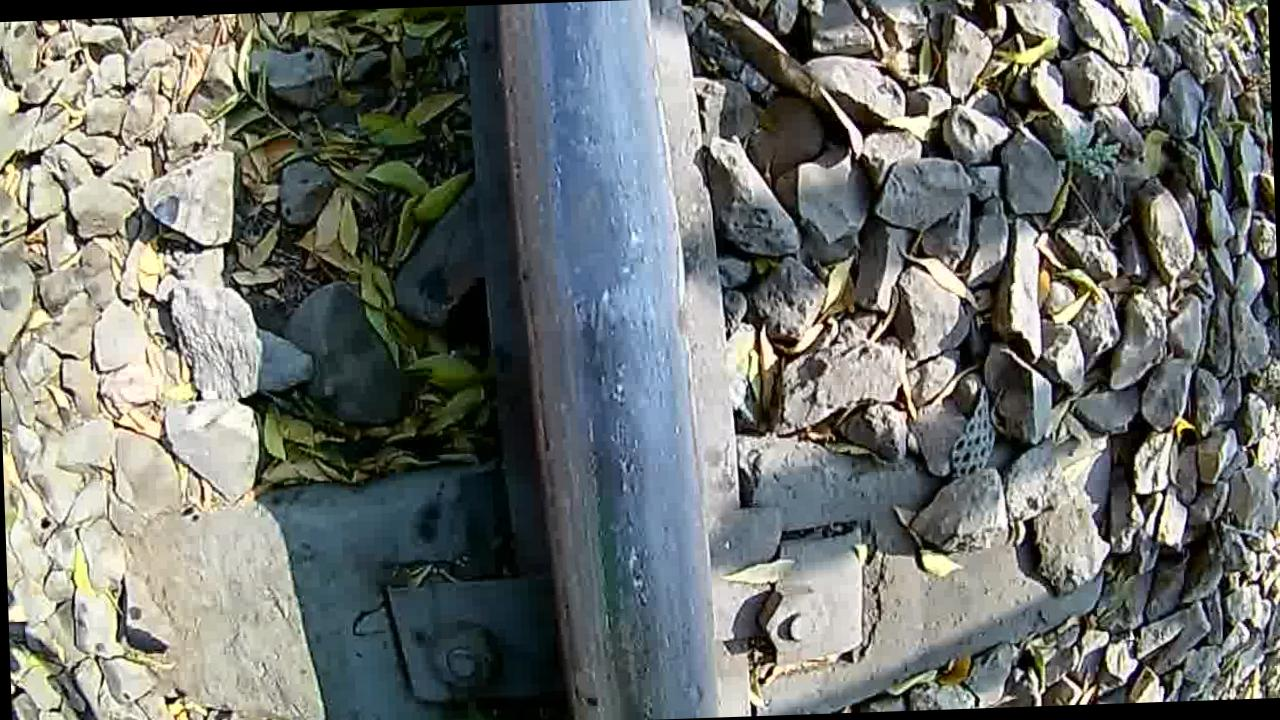bolt_missing: (505, 12, 701, 720)
